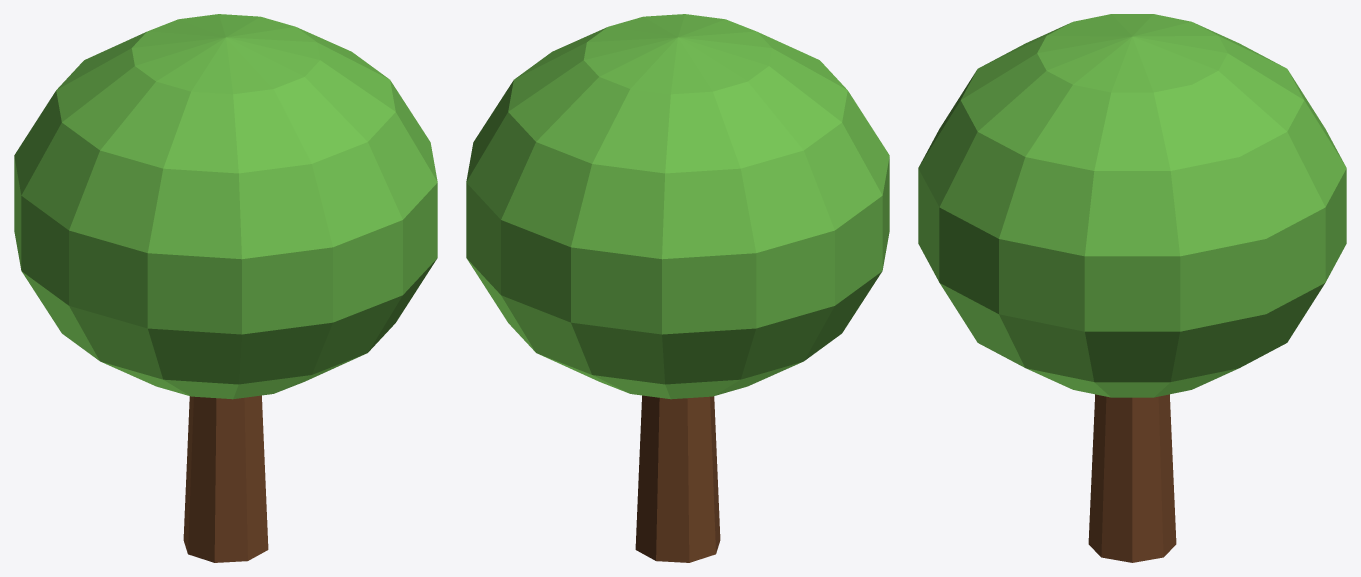
File: tree_fruit.glb
3 views of the same model, side by side, from view 1: azimuth 30°, elevation 25°; view 2: azimuth 150°, elevation 25°; view 3: azimuth 270°, elevation 25° (orthographic).
Visible parts, largest first — view 1: tree_fruit; view 2: tree_fruit; view 3: tree_fruit.
Boxes of the visible parts, x1,y1,x2,y2 form: tree_fruit: [14, 14, 437, 562]; tree_fruit: [466, 14, 889, 562]; tree_fruit: [918, 14, 1346, 562].
Bounding box in the file's own units: 0.9505 × 1.28 × 0.9749.
